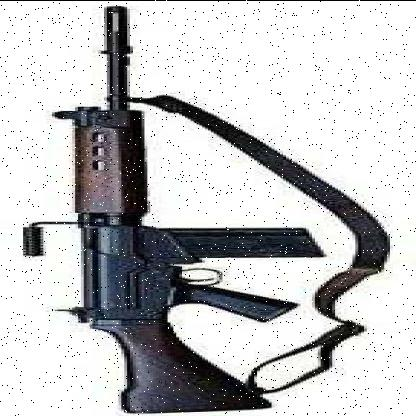rifle: (32, 2, 358, 413)
